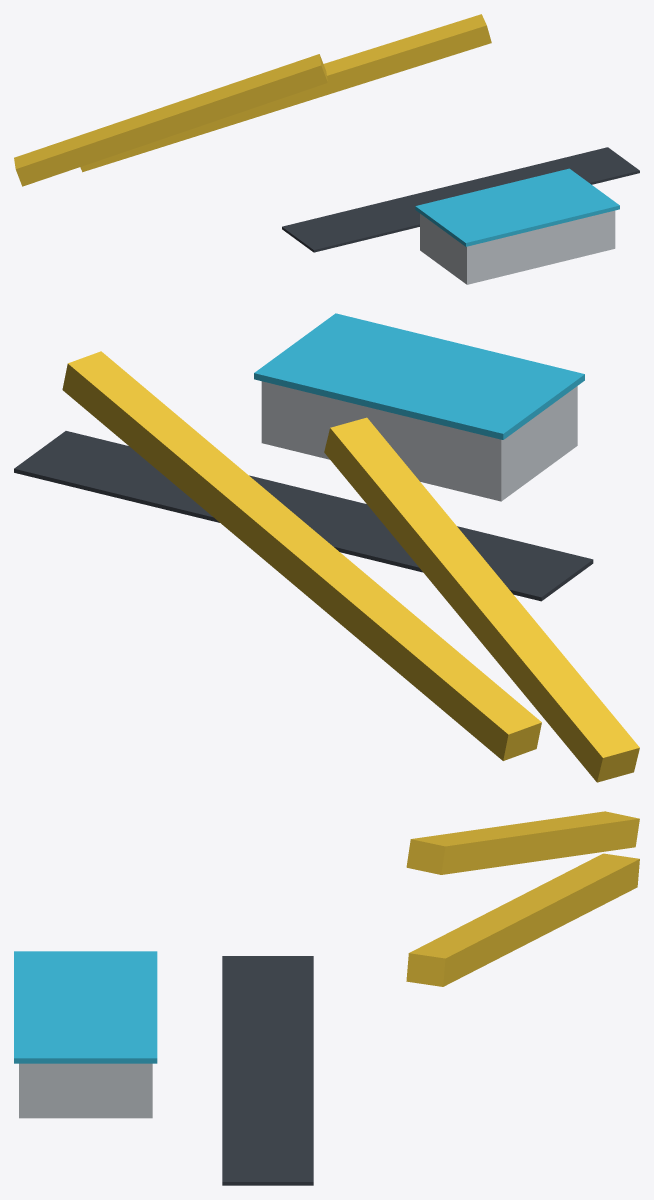
Rendered from bim-plant-s3.glb.
The picture shows the model from 3 angles, top to bottom: view 1: azimuth 30°, elevation 25°; view 2: azimuth 150°, elevation 25°; view 3: azimuth 270°, elevation 25°; orthographic projection. The views are drawn at different scales.
Visible parts, largest first — view 1: ConveyorA, ControlTrim, Weighbridge, ConveyorB, ControlRoom; view 2: ConveyorB, ConveyorA, ControlTrim, Weighbridge, ControlRoom; view 3: Weighbridge, ControlTrim, ConveyorB, ConveyorA, ControlRoom.
Boxes of the visible parts, x1,y1,x2,y2 form: ConveyorA: [14, 54, 327, 186]; ControlTrim: [415, 168, 619, 246]; Weighbridge: [282, 147, 639, 252]; ConveyorB: [80, 14, 491, 172]; ControlRoom: [420, 210, 615, 284]; ConveyorB: [62, 351, 541, 760]; ConveyorA: [324, 417, 639, 782]; ControlTrim: [254, 313, 584, 439]; Weighbridge: [14, 431, 593, 601]; ControlRoom: [261, 381, 577, 501]; Weighbridge: [222, 956, 313, 1185]; ControlTrim: [14, 951, 157, 1063]; ConveyorB: [406, 853, 639, 986]; ConveyorA: [406, 811, 639, 874]; ControlRoom: [19, 1063, 152, 1118].
Size of the model in its own units: 66.07 by 15.6 by 51.51.
